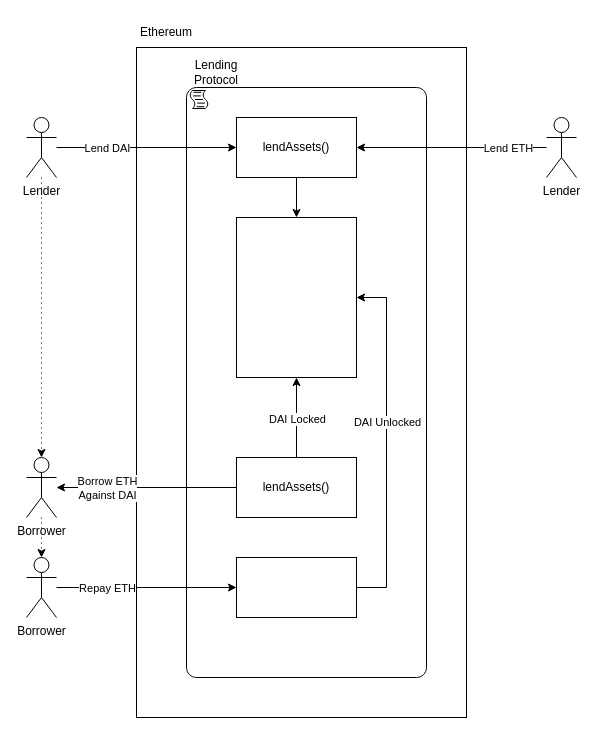
Image size: 597x735. Some labels were removed from this diagram. The shapes that lost their labels are listed below. From the top down, each one's centre as x and y in pixels, then its label:
pixel 296 297: State Variables ETH Supply DAI Supply ....
pixel 296 587: repayAssets()
